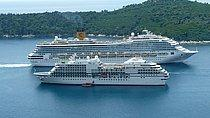Ship: (26, 29, 202, 68), (34, 58, 175, 88)
